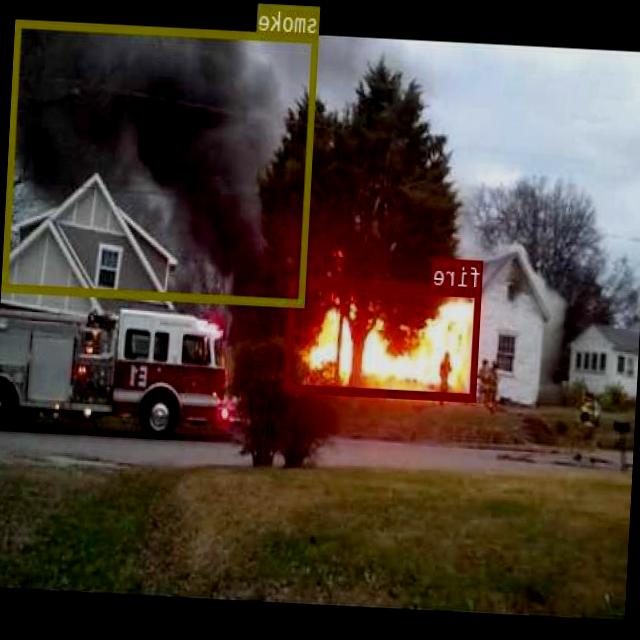fire: (286, 279, 484, 401)
smoke: (3, 18, 320, 304)
